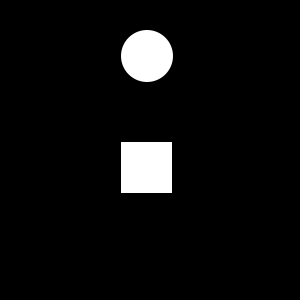circle: (121, 142, 172, 193)
rectangle: (121, 30, 173, 82)
